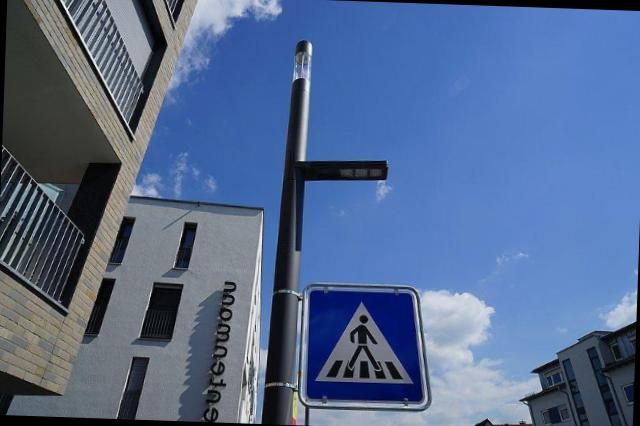crosswalk-sign: (300, 283, 437, 415)
